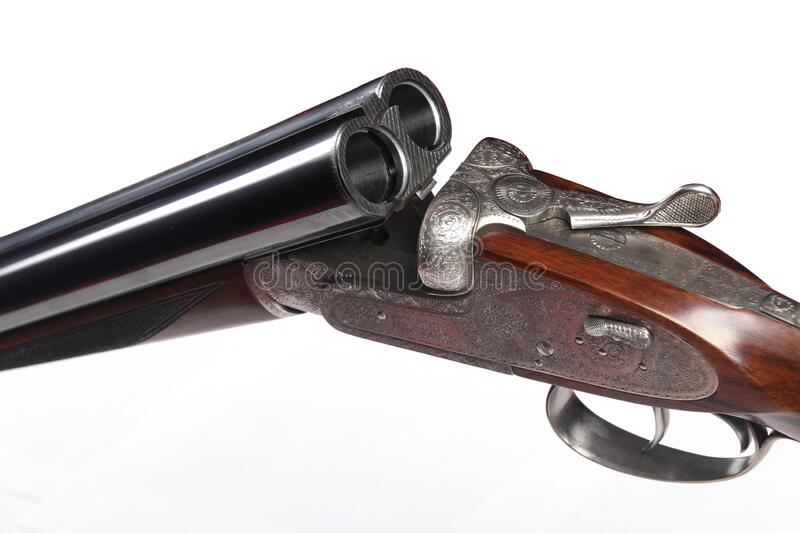weapon: (3, 67, 800, 490)
